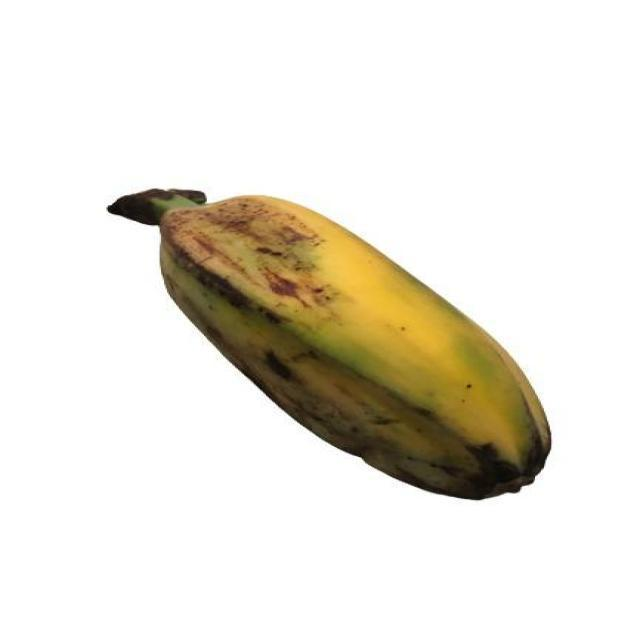Banana: (103, 183, 556, 500)
